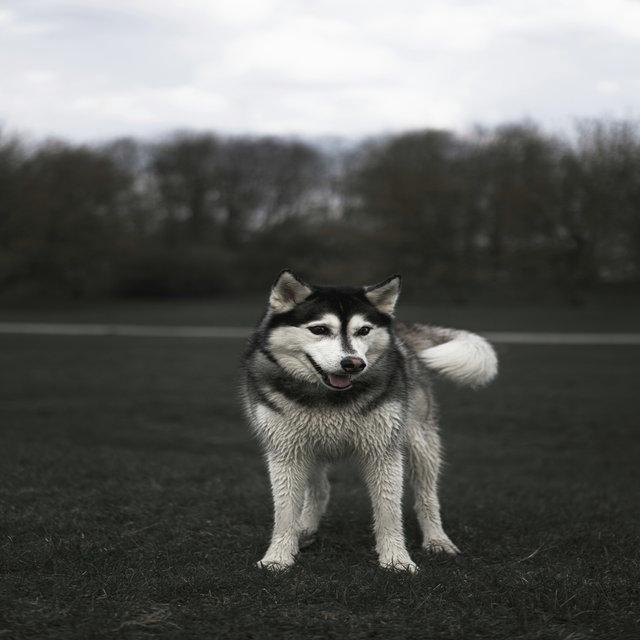husky: (239, 268, 500, 575)
